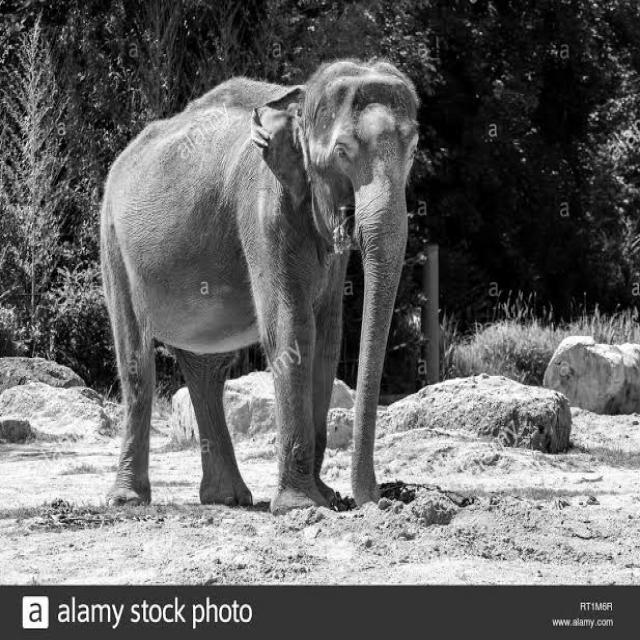Elephant: (98, 55, 421, 515)
